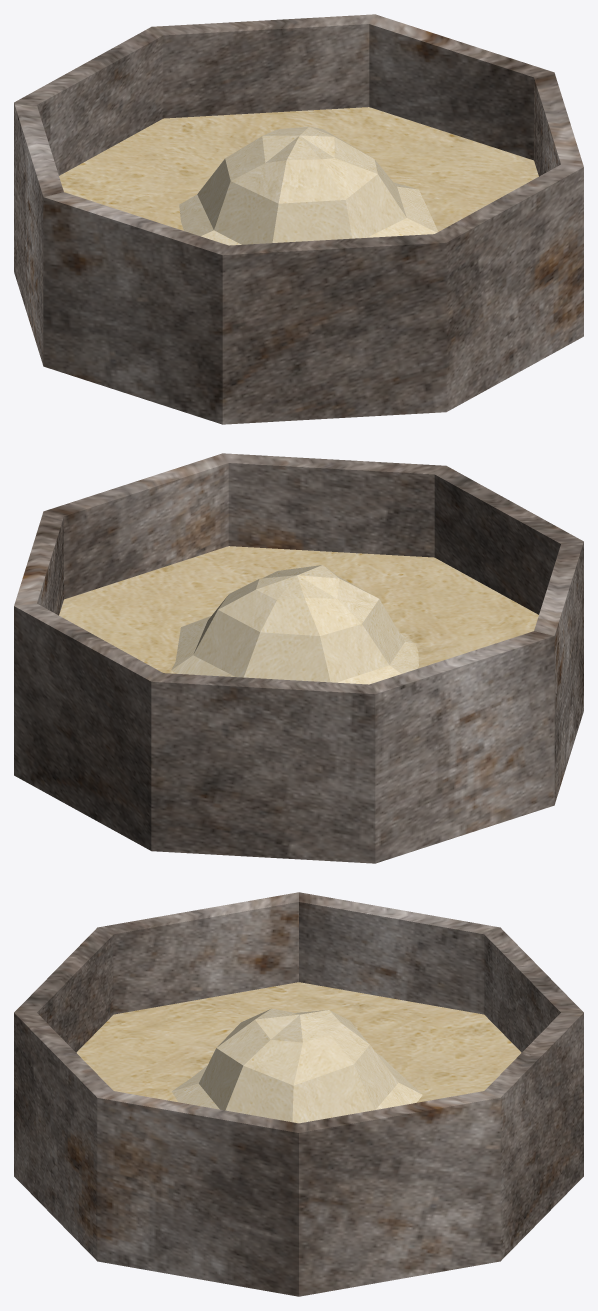
Rendered from PelmeniStuff.fbx.
3 renders of one model, top to bottom at view 1: azimuth 30°, elevation 25°; view 2: azimuth 150°, elevation 25°; view 3: azimuth 270°, elevation 25°, orthographic. The views are drawn at different scales.
Visible parts, largest first — view 1: Mould, SmallDough, Pelmen; view 2: Mould, SmallDough, Pelmen; view 3: Mould, SmallDough, Pelmen.
Part boxes in pixels (x1=…): Mould: x1=14, y1=14, x2=583, y2=424; SmallDough: x1=59, y1=107, x2=538, y2=231; Pelmen: x1=179, y1=126, x2=438, y2=245; Mould: x1=14, y1=453, x2=583, y2=863; SmallDough: x1=59, y1=546, x2=538, y2=673; Pelmen: x1=171, y1=565, x2=418, y2=684; Mould: x1=14, y1=892, x2=583, y2=1296; SmallDough: x1=76, y1=982, x2=521, y2=1102; Pelmen: x1=172, y1=1008, x2=422, y2=1123.
Bounding box in the file's own units: 0.5861 × 0.1857 × 0.5861.
